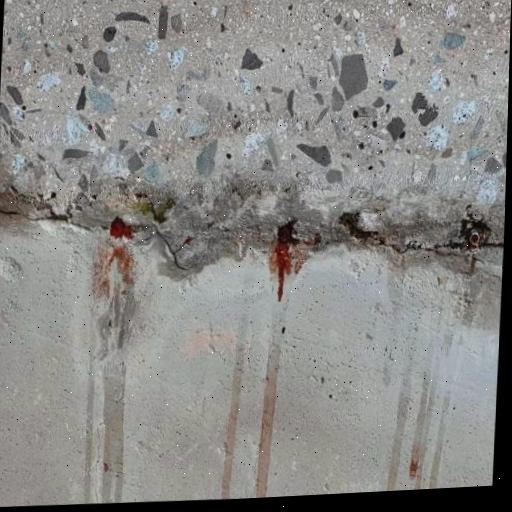exposed_rebar: (275, 222, 298, 300), (110, 217, 135, 238), (468, 230, 480, 251)
